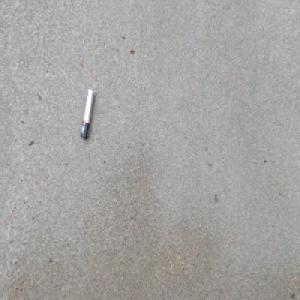Battery: (79, 86, 94, 140)
